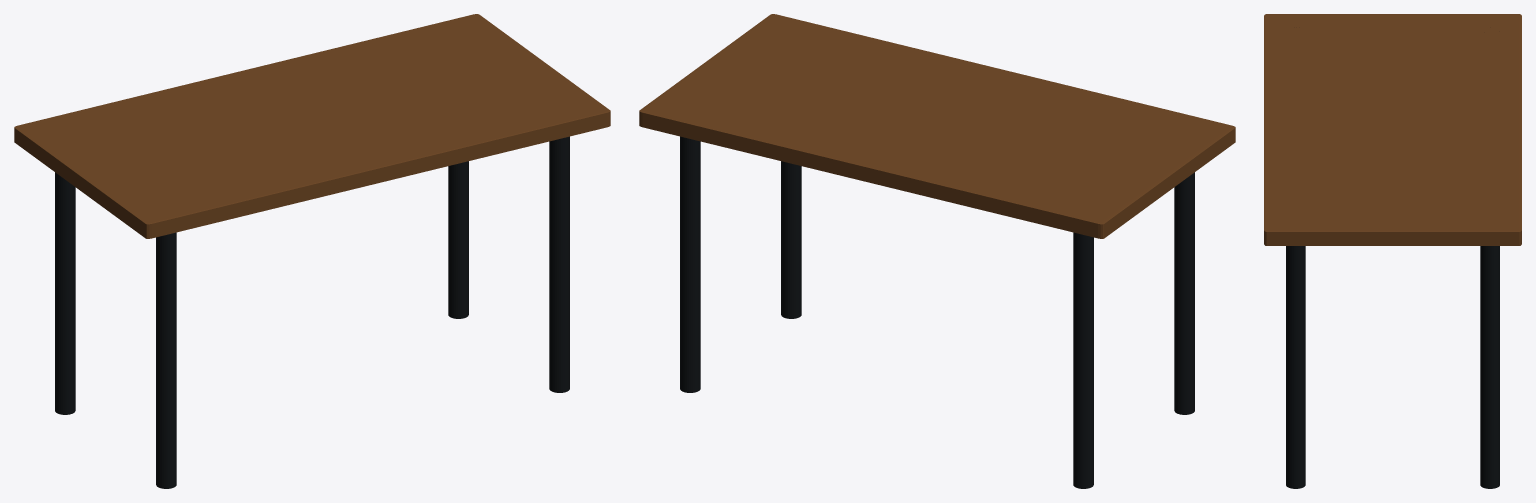
The model's file is table_desk.glb.
3 views of the same model, side by side, from view 1: azimuth 30°, elevation 25°; view 2: azimuth 150°, elevation 25°; view 3: azimuth 270°, elevation 25° (orthographic). The views are drawn at different scales.
Visible parts, largest first — view 1: Cube, Cylinder, Cylinder.002, Cylinder.001, Cylinder.003; view 2: Cube, Cylinder.001, Cylinder.003, Cylinder, Cylinder.002; view 3: Cube, Cylinder.002, Cylinder.003.
Part boxes in pixels (<box>): Cube: <box>14,14,610,238</box>; Cylinder: <box>156,232,176,488</box>; Cylinder.002: <box>549,136,569,392</box>; Cylinder.001: <box>55,172,75,414</box>; Cylinder.003: <box>448,161,468,318</box>; Cube: <box>639,14,1235,238</box>; Cylinder.001: <box>1073,232,1093,488</box>; Cylinder.003: <box>680,136,700,392</box>; Cylinder: <box>1174,172,1194,414</box>; Cylinder.002: <box>781,161,801,318</box>; Cube: <box>1264,14,1521,245</box>; Cylinder.002: <box>1286,246,1305,488</box>; Cylinder.003: <box>1480,246,1499,488</box>.
Size of the model in its own units: 1.3 by 0.75 by 0.65.
